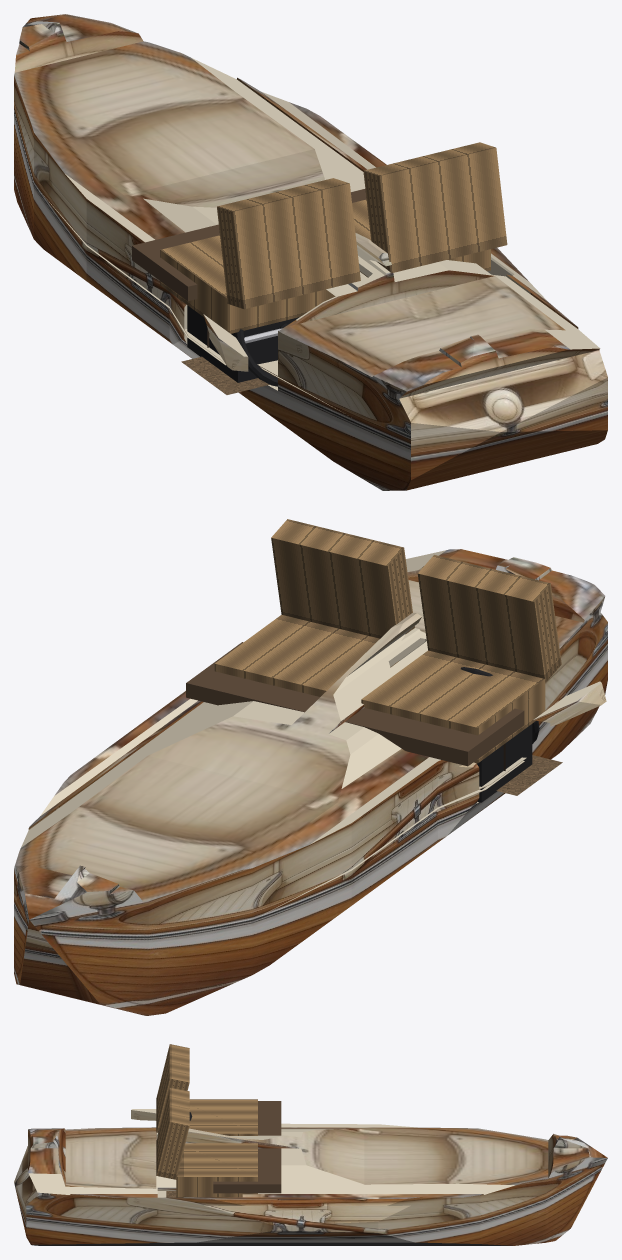
File: rowboat_dinghy.glb
The picture shows the model from 3 angles, top to bottom: view 1: azimuth 30°, elevation 25°; view 2: azimuth 150°, elevation 25°; view 3: azimuth 270°, elevation 25°; orthographic projection. The views are drawn at different scales.
Parts seen in each view (by area): view 1: rowboat_dinghy, rowboat_dinghy_cabin; view 2: rowboat_dinghy, rowboat_dinghy_cabin; view 3: rowboat_dinghy, rowboat_dinghy_cabin.
Part boxes in pixels (x1,y1,x2,y2): rowboat_dinghy: (14, 14, 607, 490); rowboat_dinghy_cabin: (132, 142, 507, 394); rowboat_dinghy: (14, 549, 607, 1015); rowboat_dinghy_cabin: (186, 519, 562, 802); rowboat_dinghy: (14, 1109, 607, 1245); rowboat_dinghy_cabin: (156, 1044, 281, 1197).
Bounding box in the file's own units: 1.32 × 0.9406 × 3.5.
Materials: 9 (4 with a texture image).
